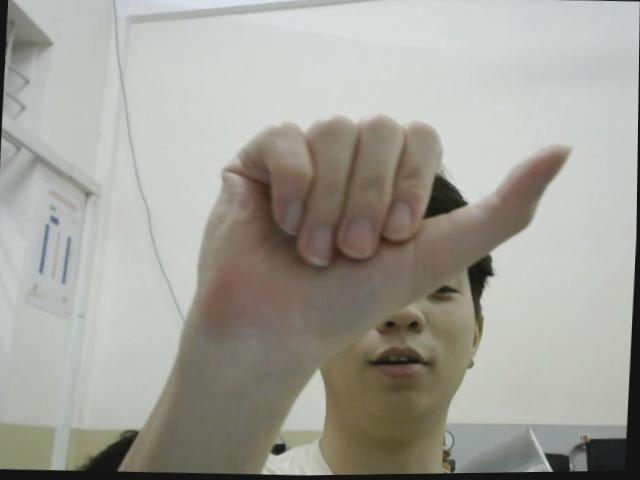A: (195, 107, 576, 331)
